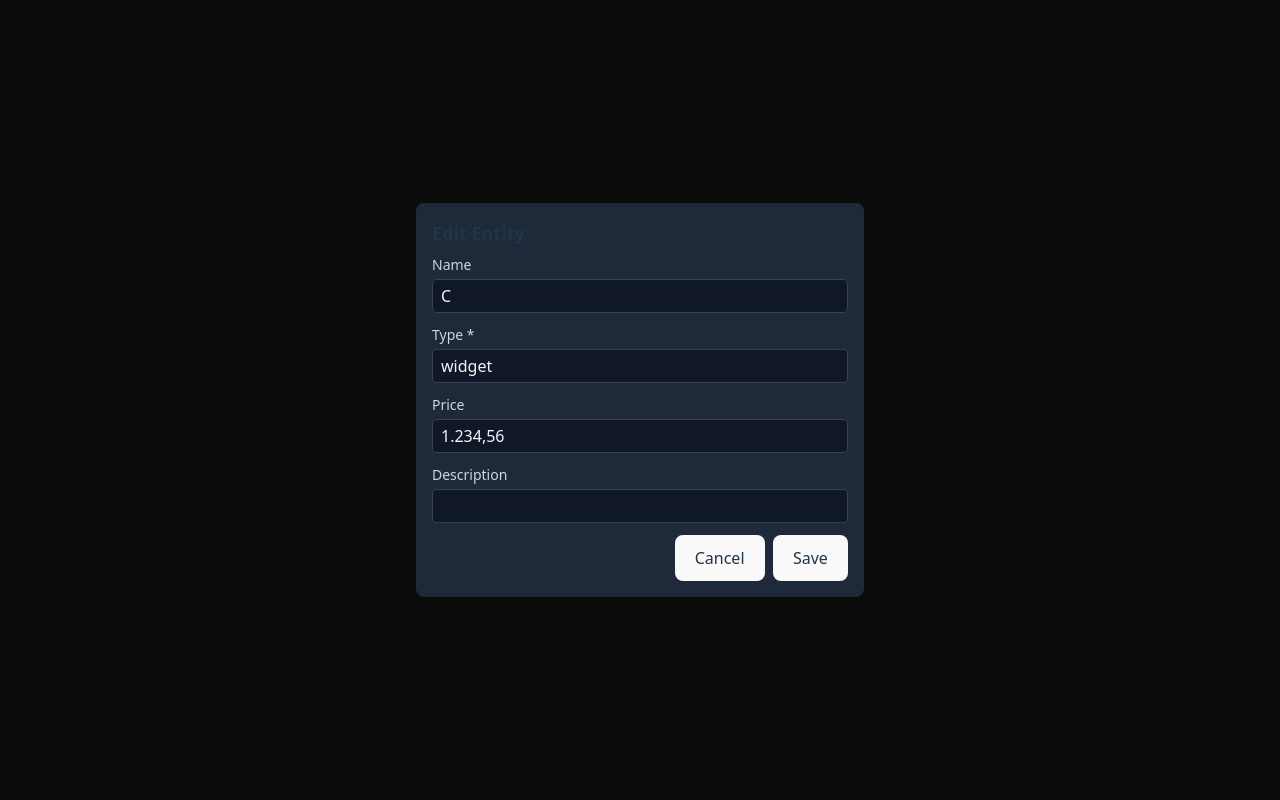
it: formats price on focus and blur
Click the field labelled "Price": (640, 436) [432, 419, 848, 453]
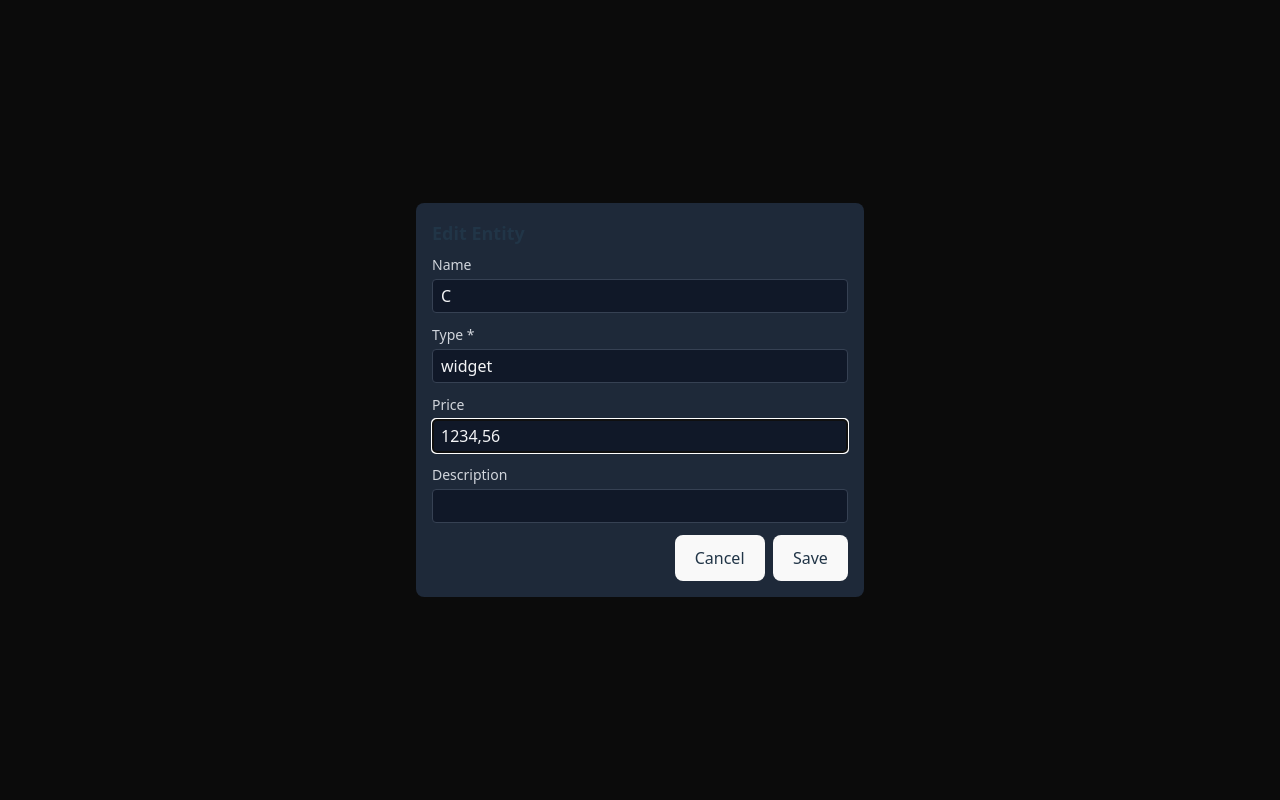
Press Tab
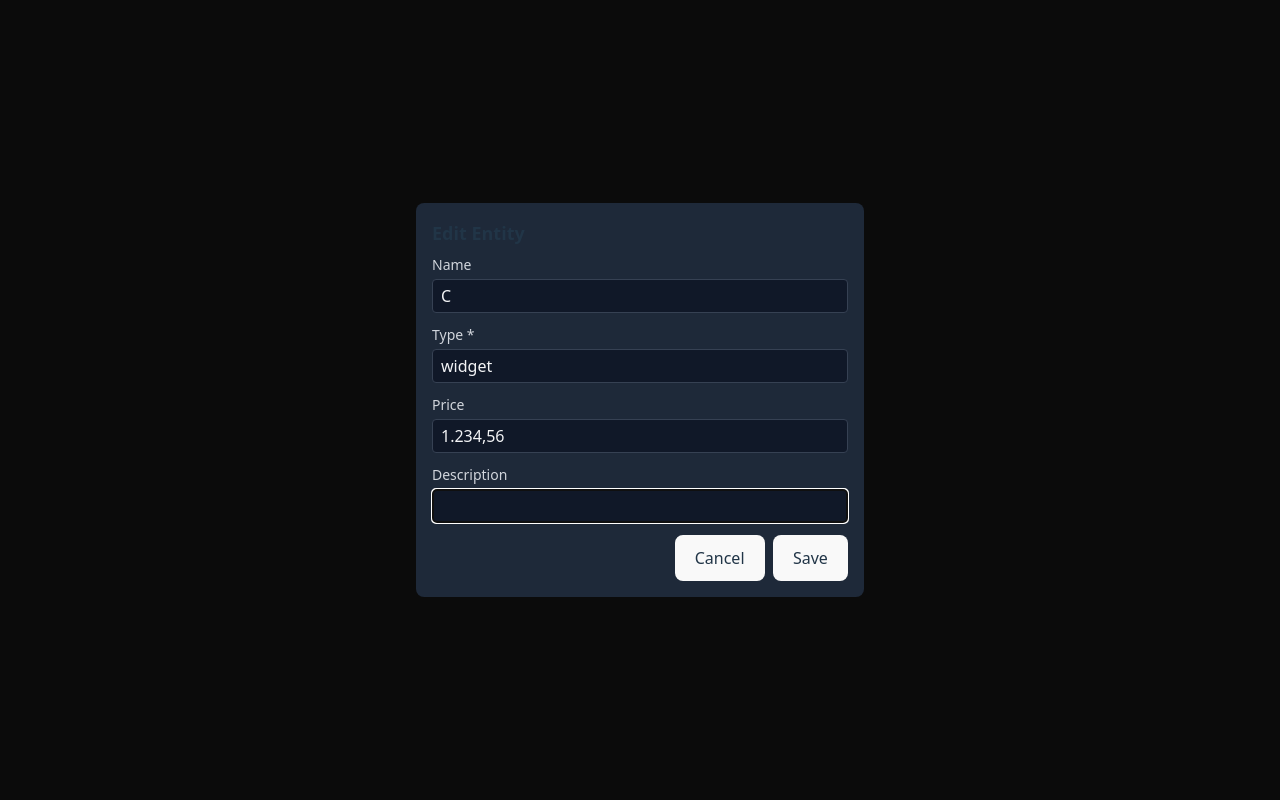
Now the field labelled "Price" holds "1.234,56", box [432, 419, 848, 453]
